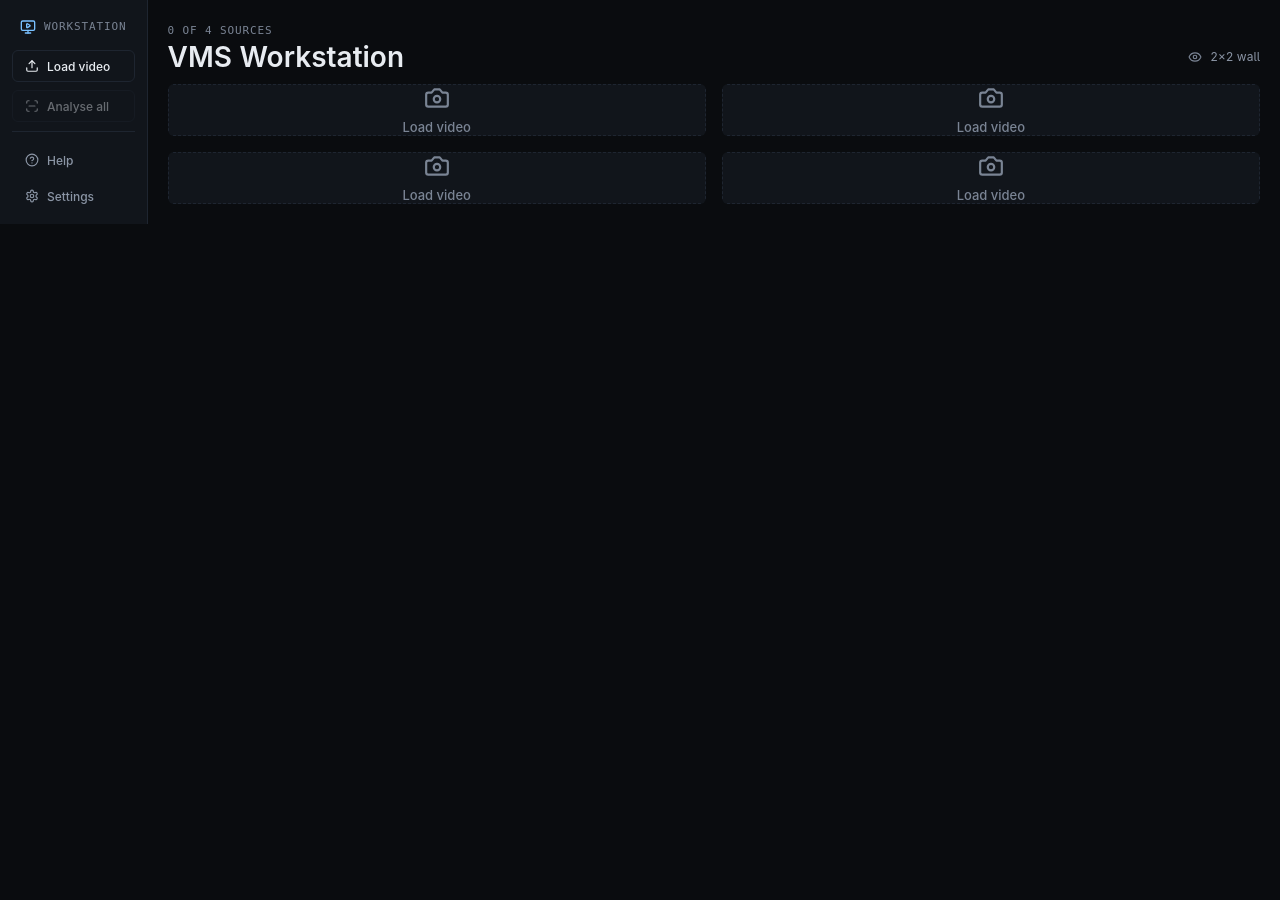
the VMS workstation › opens and closes the help popup
Step 1. Click the button "Help" → (73, 160), box [12,144,134,176]
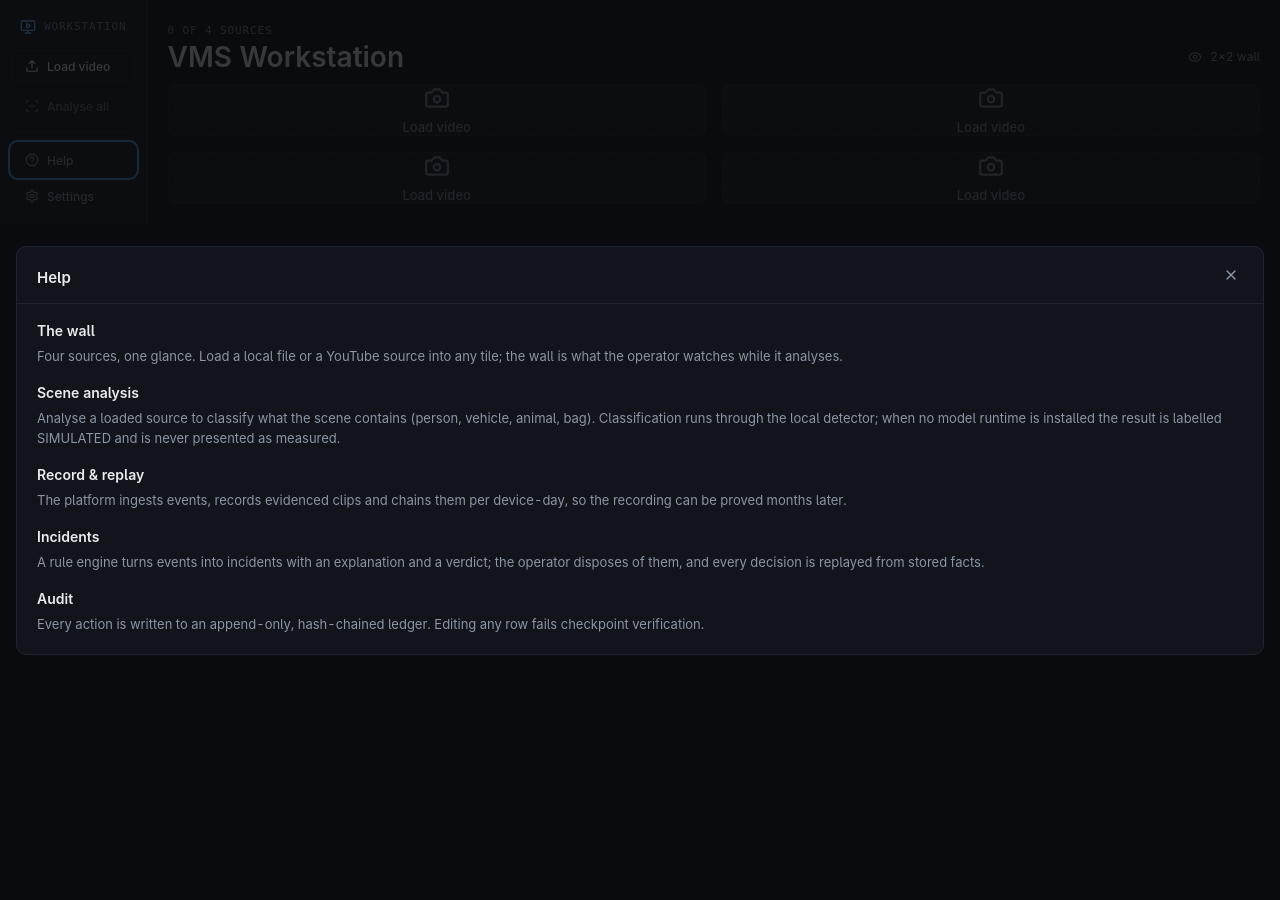
Now the text "The wall" is shown, box [37,322,95,338]
Step 2. Click the 1st button named "Close" → (640, 846), box [0,0,1279,899]
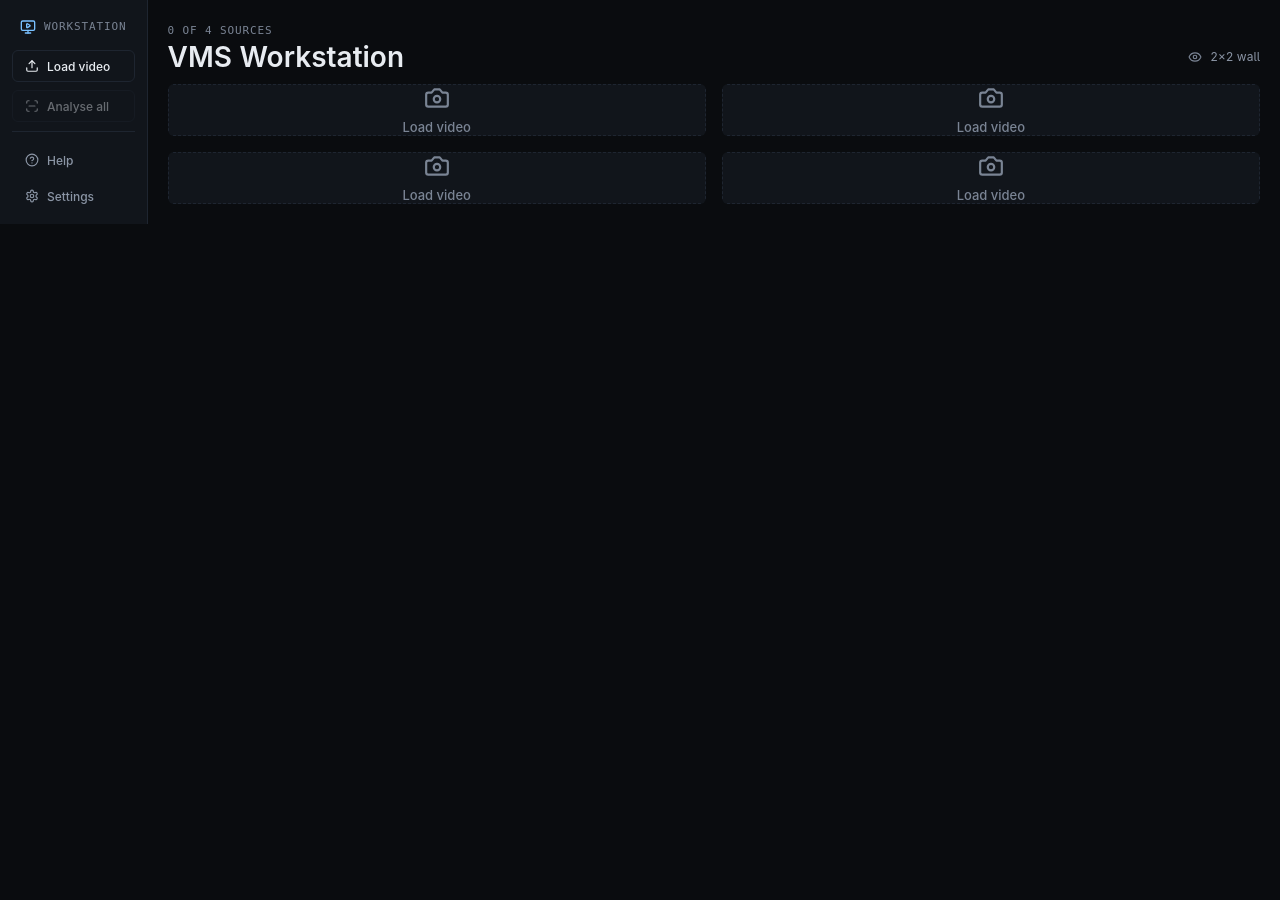
Now the text "The wall" is gone
